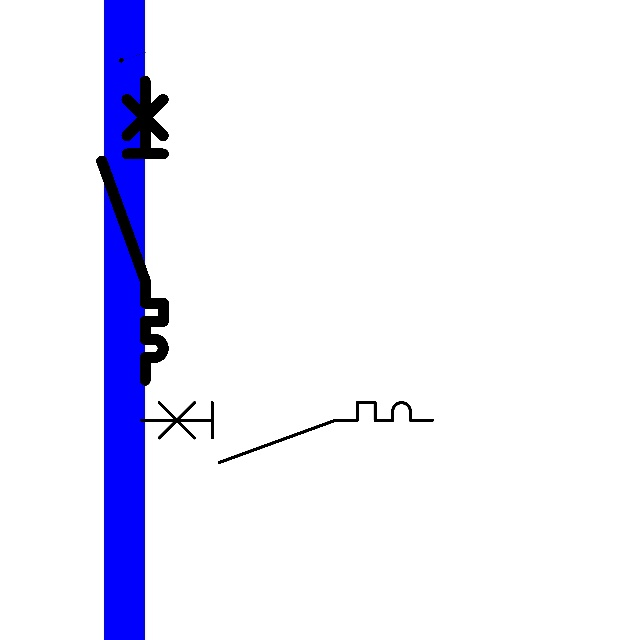interruptor_termomagnetico: (94, 73, 171, 388), (134, 395, 440, 470)
